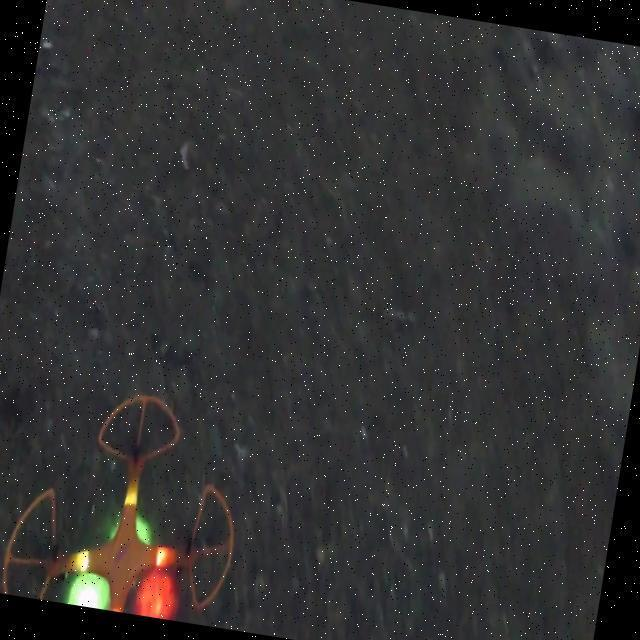Drons: (0, 360, 262, 611)
